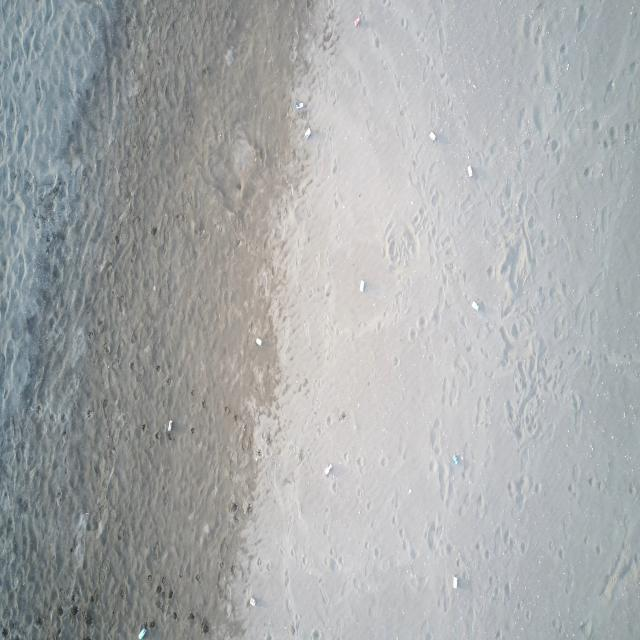tin-and-aluminum-cans: (324, 462, 333, 476), (304, 127, 312, 139), (138, 628, 146, 640), (471, 301, 479, 312), (452, 454, 459, 466), (453, 575, 458, 590), (295, 102, 304, 110), (467, 166, 473, 178), (429, 132, 436, 142), (250, 597, 256, 607), (168, 420, 173, 432), (360, 279, 364, 294), (354, 16, 360, 26), (256, 337, 262, 346)
